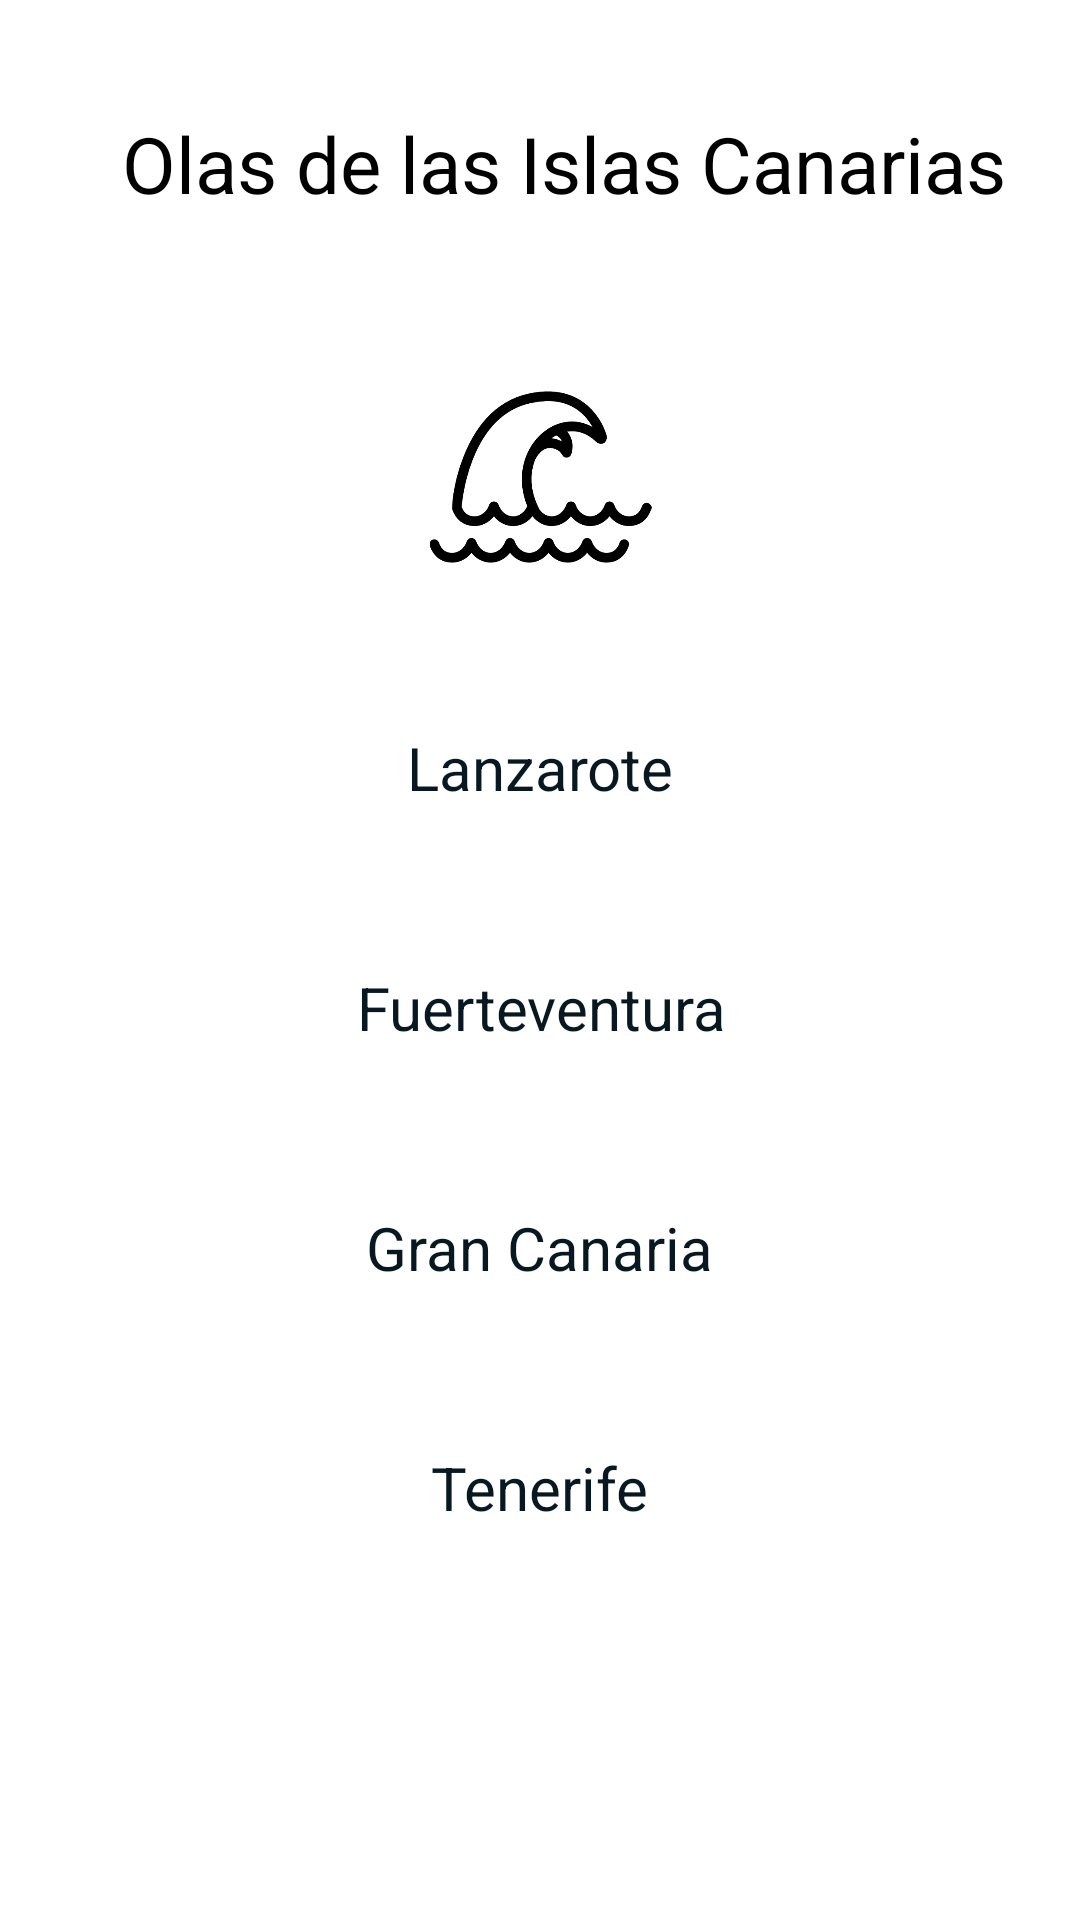

Locate icon controls on the screen. Image size 1080*1920, boxes as (x1, y1, x2, y2).
wave: (430, 391, 652, 563)
